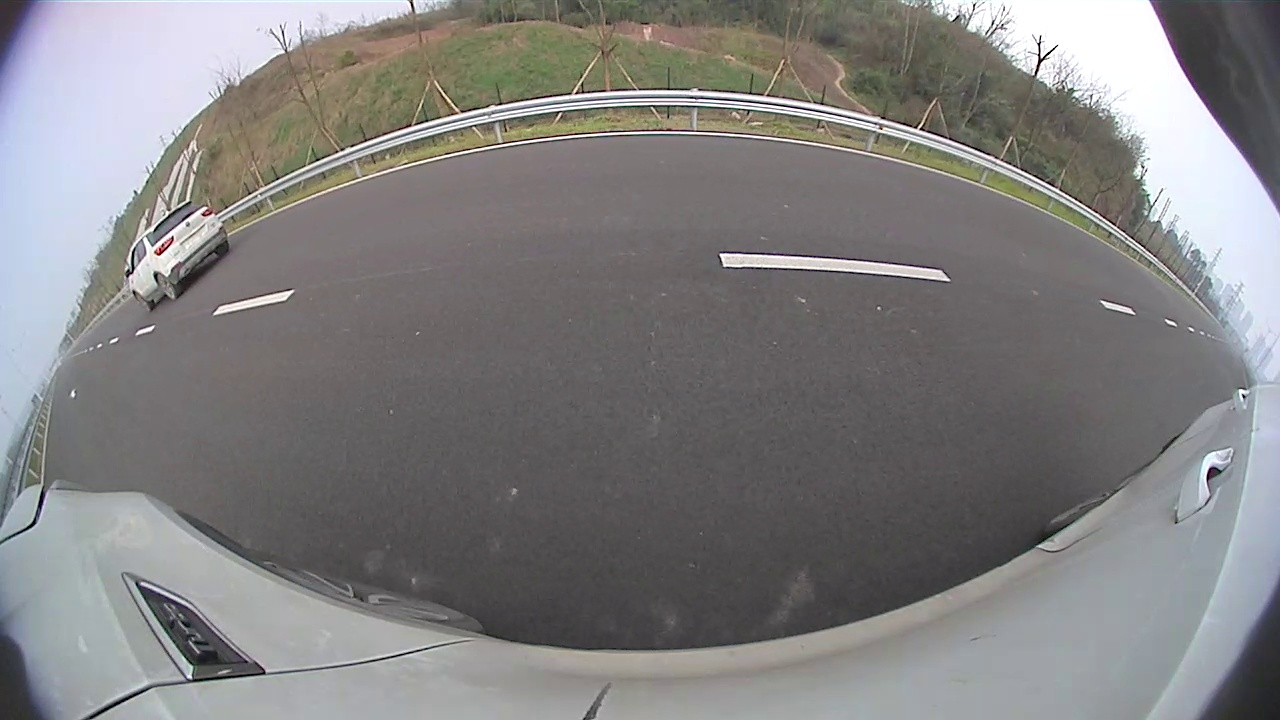car: (123, 197, 230, 311)
rear: (155, 272, 180, 301)
